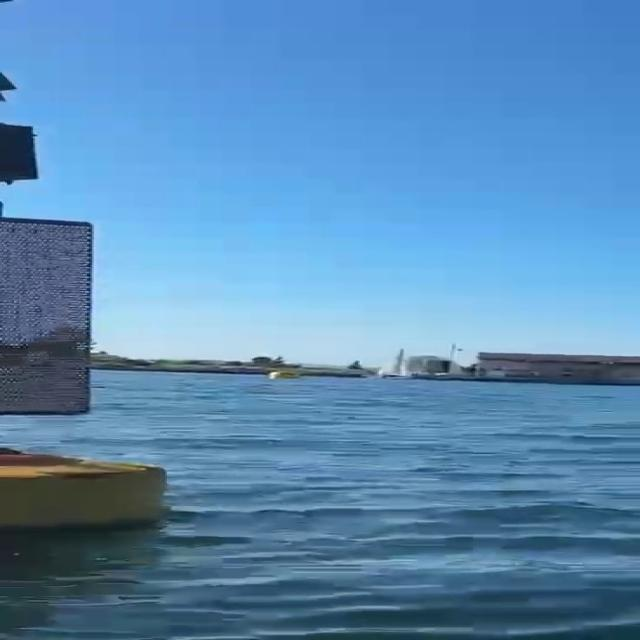marque: (1, 60, 168, 538)
